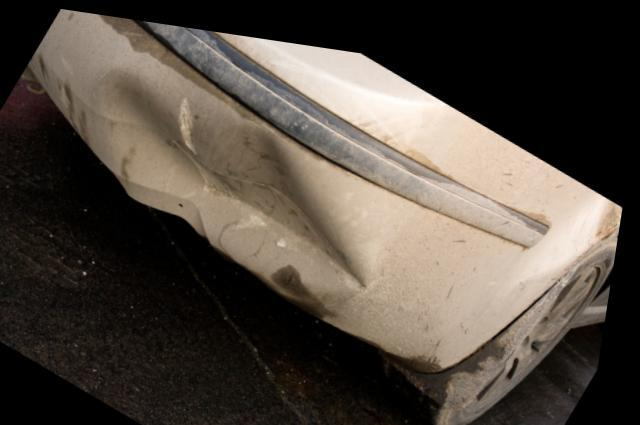dent: (100, 67, 373, 287)
